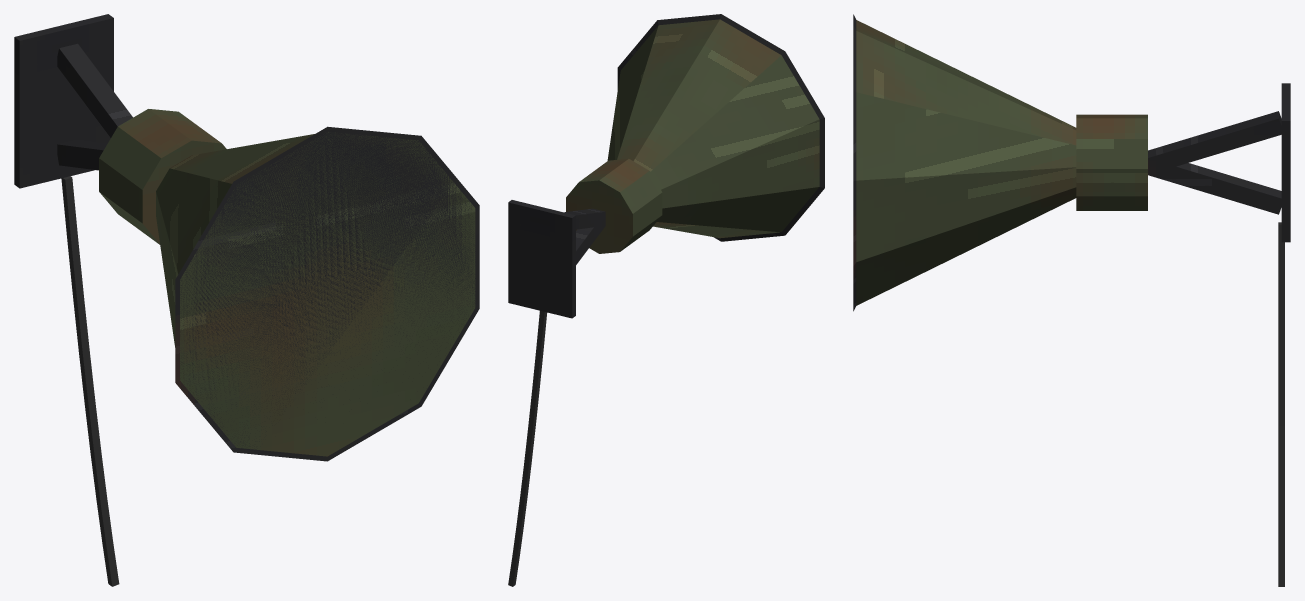
File: loudspeaker_horn.glb
3 renders of one model, left to right at view 1: azimuth 30°, elevation 25°; view 2: azimuth 150°, elevation 25°; view 3: azimuth 270°, elevation 25°, orthographic. The views are drawn at different scales.
Parts seen in each view (by area): view 1: loudspeaker_horn; view 2: loudspeaker_horn; view 3: loudspeaker_horn.
Boxes of the visible parts, left/top/right/bottom form: loudspeaker_horn: left=14, top=14, right=479, bottom=586; loudspeaker_horn: left=508, top=14, right=824, bottom=586; loudspeaker_horn: left=853, top=14, right=1290, bottom=586.
Size of the model in its own units: 0.6467 by 1.34 by 0.98.
3 materials, 2 textured.
